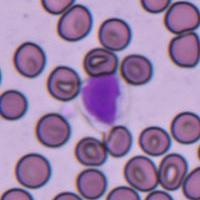L: (82, 73, 131, 126)
